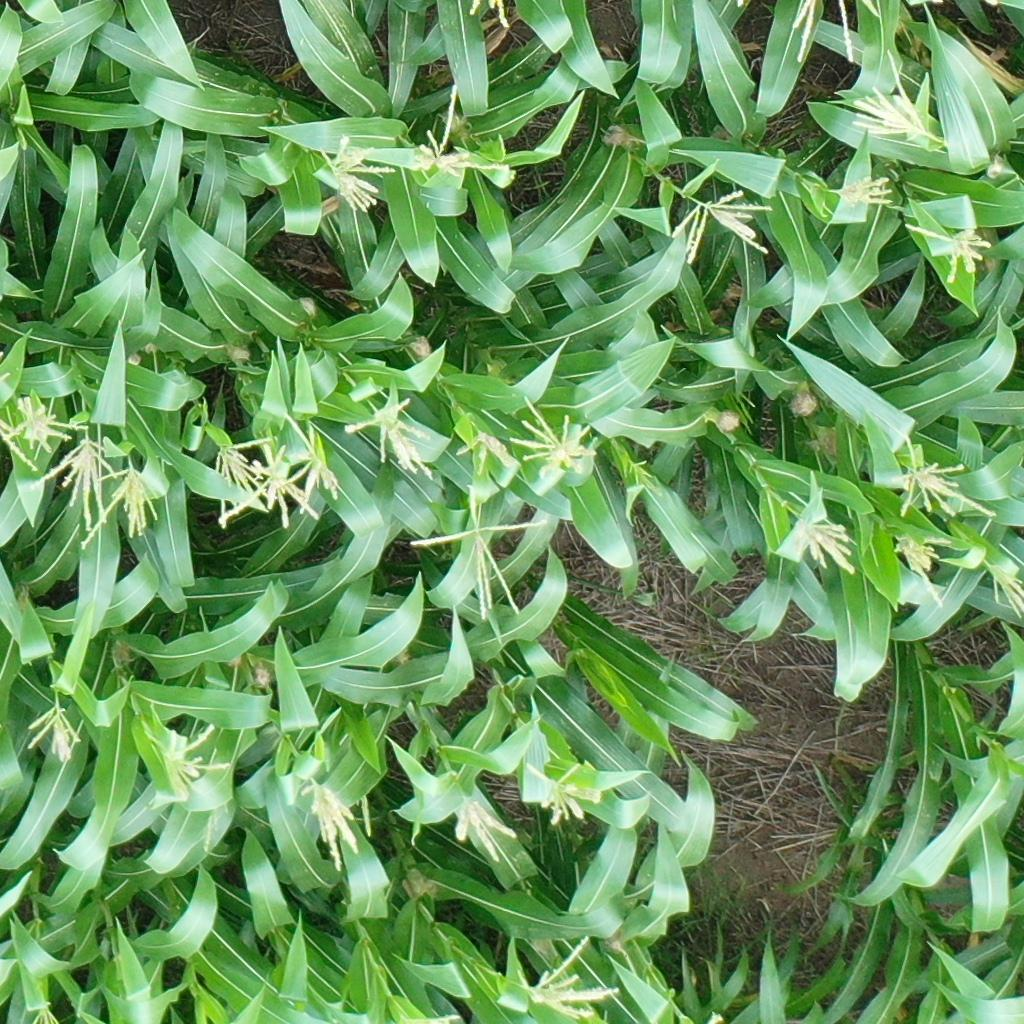Tassel: (410, 483, 546, 624), (410, 82, 511, 181), (886, 436, 997, 523), (516, 934, 621, 1021), (220, 445, 318, 533), (667, 188, 773, 269), (845, 49, 935, 142), (32, 435, 116, 532), (346, 396, 438, 483), (77, 469, 164, 550), (512, 394, 595, 478), (141, 713, 228, 792), (314, 133, 398, 213), (899, 217, 996, 286), (1, 394, 89, 470), (287, 410, 345, 517), (296, 780, 363, 869), (524, 759, 603, 826), (785, 1, 861, 62), (894, 528, 948, 613), (453, 799, 519, 866), (791, 514, 861, 576), (209, 432, 271, 494), (23, 704, 83, 763), (454, 428, 518, 478), (983, 561, 1024, 619), (828, 174, 894, 209), (623, 456, 665, 498), (33, 1007, 62, 1024)
